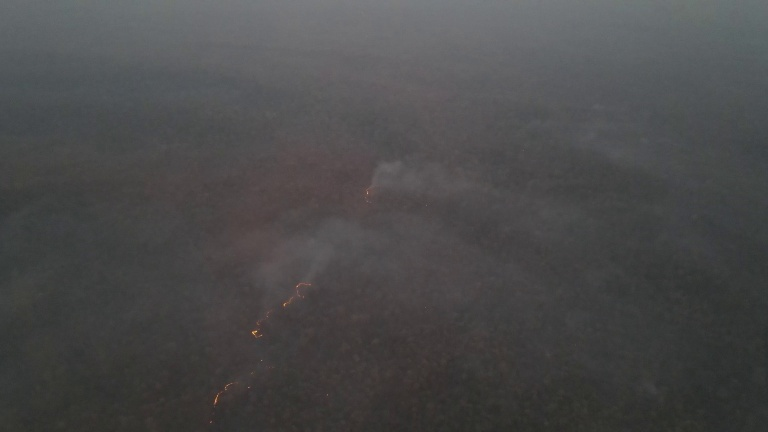fire: (275, 278, 318, 309), (204, 380, 232, 414), (246, 318, 269, 339), (362, 184, 376, 202)
smoke: (273, 211, 377, 280), (376, 157, 433, 193)
